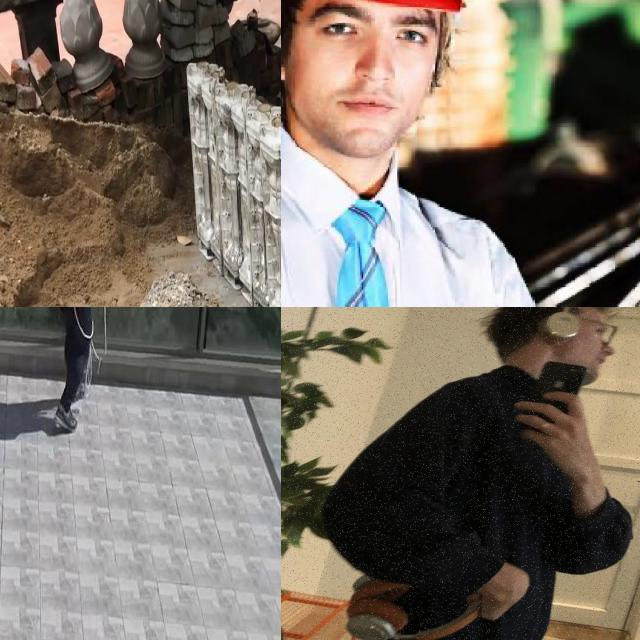Ear-protection: (458, 307, 640, 420)
No_Glasses: (298, 0, 443, 56)
face_nomask: (295, 42, 433, 157)
